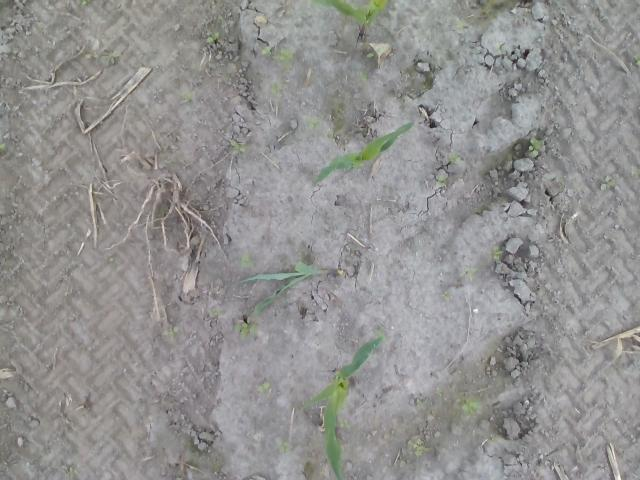Maize: (302, 333, 383, 480), (312, 123, 414, 186), (241, 260, 344, 314), (310, 0, 388, 29)
Weeds: (261, 46, 295, 65), (462, 400, 483, 420), (408, 436, 428, 456), (528, 137, 544, 158), (235, 322, 258, 336), (446, 150, 465, 166), (598, 174, 611, 192), (255, 380, 270, 394), (462, 266, 476, 280), (232, 144, 248, 156), (490, 246, 504, 259), (240, 255, 254, 268), (162, 326, 178, 337), (206, 31, 219, 44), (270, 82, 282, 96), (276, 440, 288, 454), (308, 117, 321, 129), (339, 418, 351, 430), (364, 50, 376, 60), (434, 386, 444, 397), (441, 290, 450, 302), (632, 54, 640, 65), (78, 0, 88, 7), (0, 142, 6, 153), (360, 72, 368, 80)
